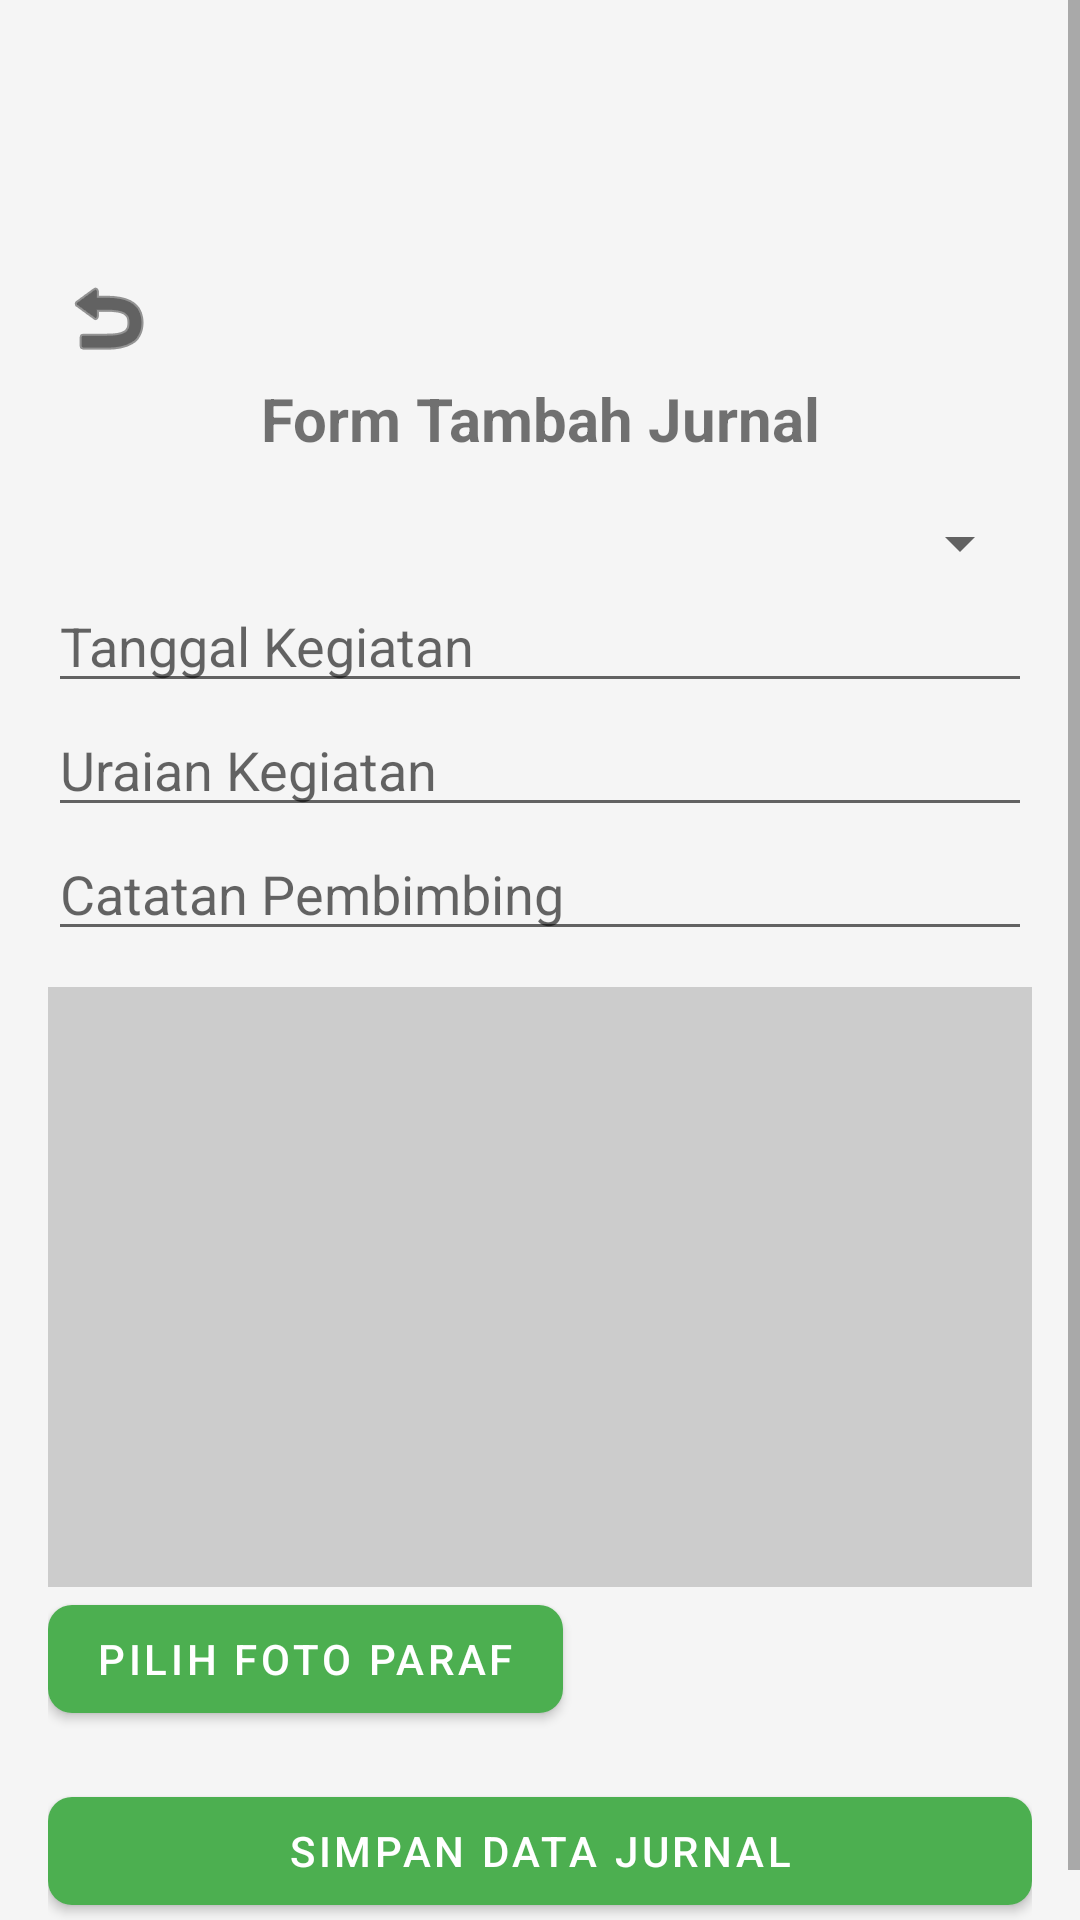

Locate icon controls on the screen. Image size 1080x1920, boxes as (x1, y1, x2, y2).
Kembali: (75, 287, 144, 350)
